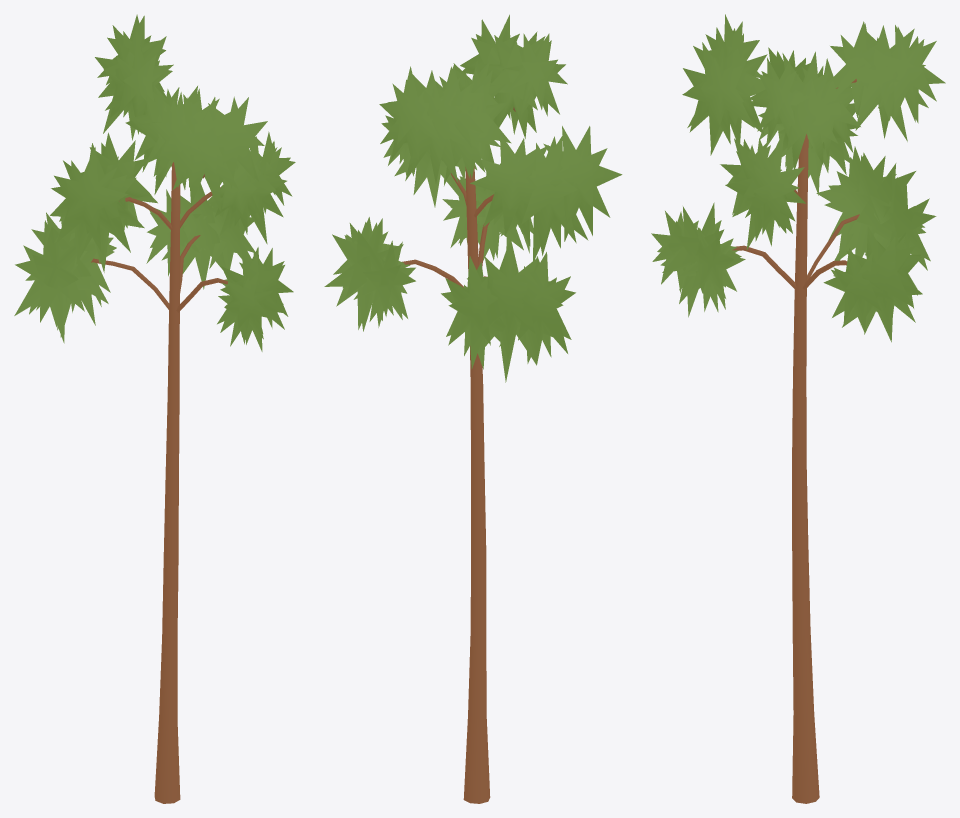
The model's file is Blender_LongleafPine_2.glb.
3 renders of one model, left to right at view 1: azimuth 30°, elevation 25°; view 2: azimuth 150°, elevation 25°; view 3: azimuth 270°, elevation 25°, orthographic. The views are drawn at different scales.
Visible parts, largest first — view 1: Blender_LongleafPine_2; view 2: Blender_LongleafPine_2; view 3: Blender_LongleafPine_2.
Boxes of the visible parts, x1,y1,x2,y2 form: Blender_LongleafPine_2: (14, 14, 295, 803); Blender_LongleafPine_2: (324, 14, 622, 803); Blender_LongleafPine_2: (651, 14, 945, 803).
Bounding box in the file's own units: 8.46 × 25.95 × 8.86.
